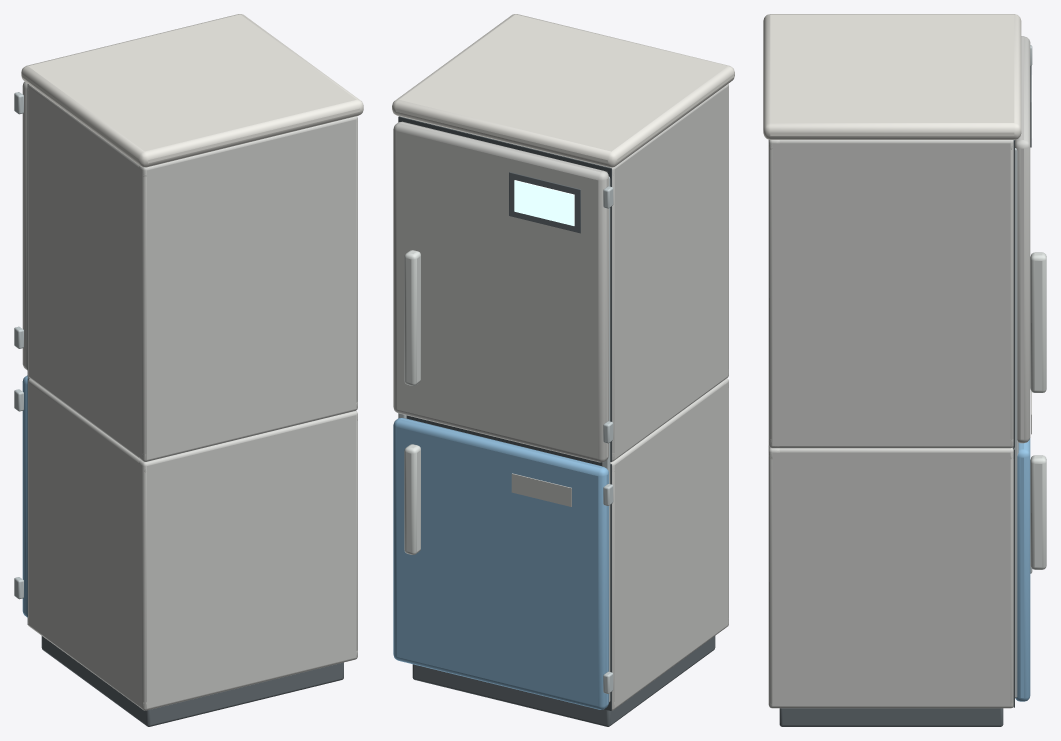
File: galley_freezer.glb
3 views of the same model, side by side, from view 1: azimuth 30°, elevation 25°; view 2: azimuth 150°, elevation 25°; view 3: azimuth 270°, elevation 25° (orthographic). The views are drawn at different scales.
Parts seen in each view (by area): view 1: fridge_shell_white_painted, freezer_shell_white_painted, cap_warm_shell, plinth_graphite, fridge_door_white_painted, freezer_door_cool_blue, hinges_alloy; view 2: fridge_door_white_painted, freezer_door_cool_blue, fridge_shell_white_painted, cap_warm_shell, freezer_shell_white_painted, plinth_graphite, fridge_door_handle_satin_steel, fridge_door_screen_cyan, freezer_door_handle_satin_steel, fridge_lip_black_rubber, fridge_door_frame_graphite, freezer_door_label_white_painted (+3 smaller); view 3: fridge_shell_white_painted, freezer_shell_white_painted, cap_warm_shell, fridge_door_white_painted, plinth_graphite, freezer_door_cool_blue, fridge_door_handle_satin_steel, freezer_door_handle_satin_steel, rails_alloy, fridge_lip_black_rubber, freezer_lip_black_rubber.
Boxes of the visible parts, box(x1,y1,x2,y2) form: fridge_shell_white_painted: box(28, 84, 357, 461); freezer_shell_white_painted: box(28, 378, 357, 710); cap_warm_shell: box(21, 14, 363, 167); plinth_graphite: box(41, 636, 343, 726); fridge_door_white_painted: box(22, 81, 27, 370); freezer_door_cool_blue: box(22, 375, 27, 617); hinges_alloy: box(14, 92, 23, 599); fridge_door_white_painted: box(393, 121, 608, 462); freezer_door_cool_blue: box(393, 418, 608, 709); fridge_shell_white_painted: box(605, 84, 728, 461); cap_warm_shell: box(392, 14, 734, 167); freezer_shell_white_painted: box(610, 378, 728, 710); plinth_graphite: box(412, 636, 715, 726); fridge_door_handle_satin_steel: box(404, 250, 420, 385); fridge_door_screen_cyan: box(514, 180, 574, 225); freezer_door_handle_satin_steel: box(404, 444, 420, 554); fridge_lip_black_rubber: box(398, 116, 611, 461); fridge_door_frame_graphite: box(509, 172, 580, 233); freezer_door_label_white_painted: box(511, 473, 571, 506); fridge_shell_white_painted: box(768, 139, 1013, 448); freezer_shell_white_painted: box(768, 445, 1013, 708); cap_warm_shell: box(763, 14, 1021, 139); fridge_door_white_painted: box(1015, 36, 1030, 443); plinth_graphite: box(779, 708, 1003, 726); freezer_door_cool_blue: box(1015, 438, 1030, 701); fridge_door_handle_satin_steel: box(1030, 252, 1046, 392); freezer_door_handle_satin_steel: box(1030, 455, 1046, 569); rails_alloy: box(1012, 148, 1018, 697); fridge_lip_black_rubber: box(1013, 140, 1014, 447); freezer_lip_black_rubber: box(1013, 449, 1014, 707).
Bounding box in the file's own units: 0.75 × 1.86 × 0.785.
